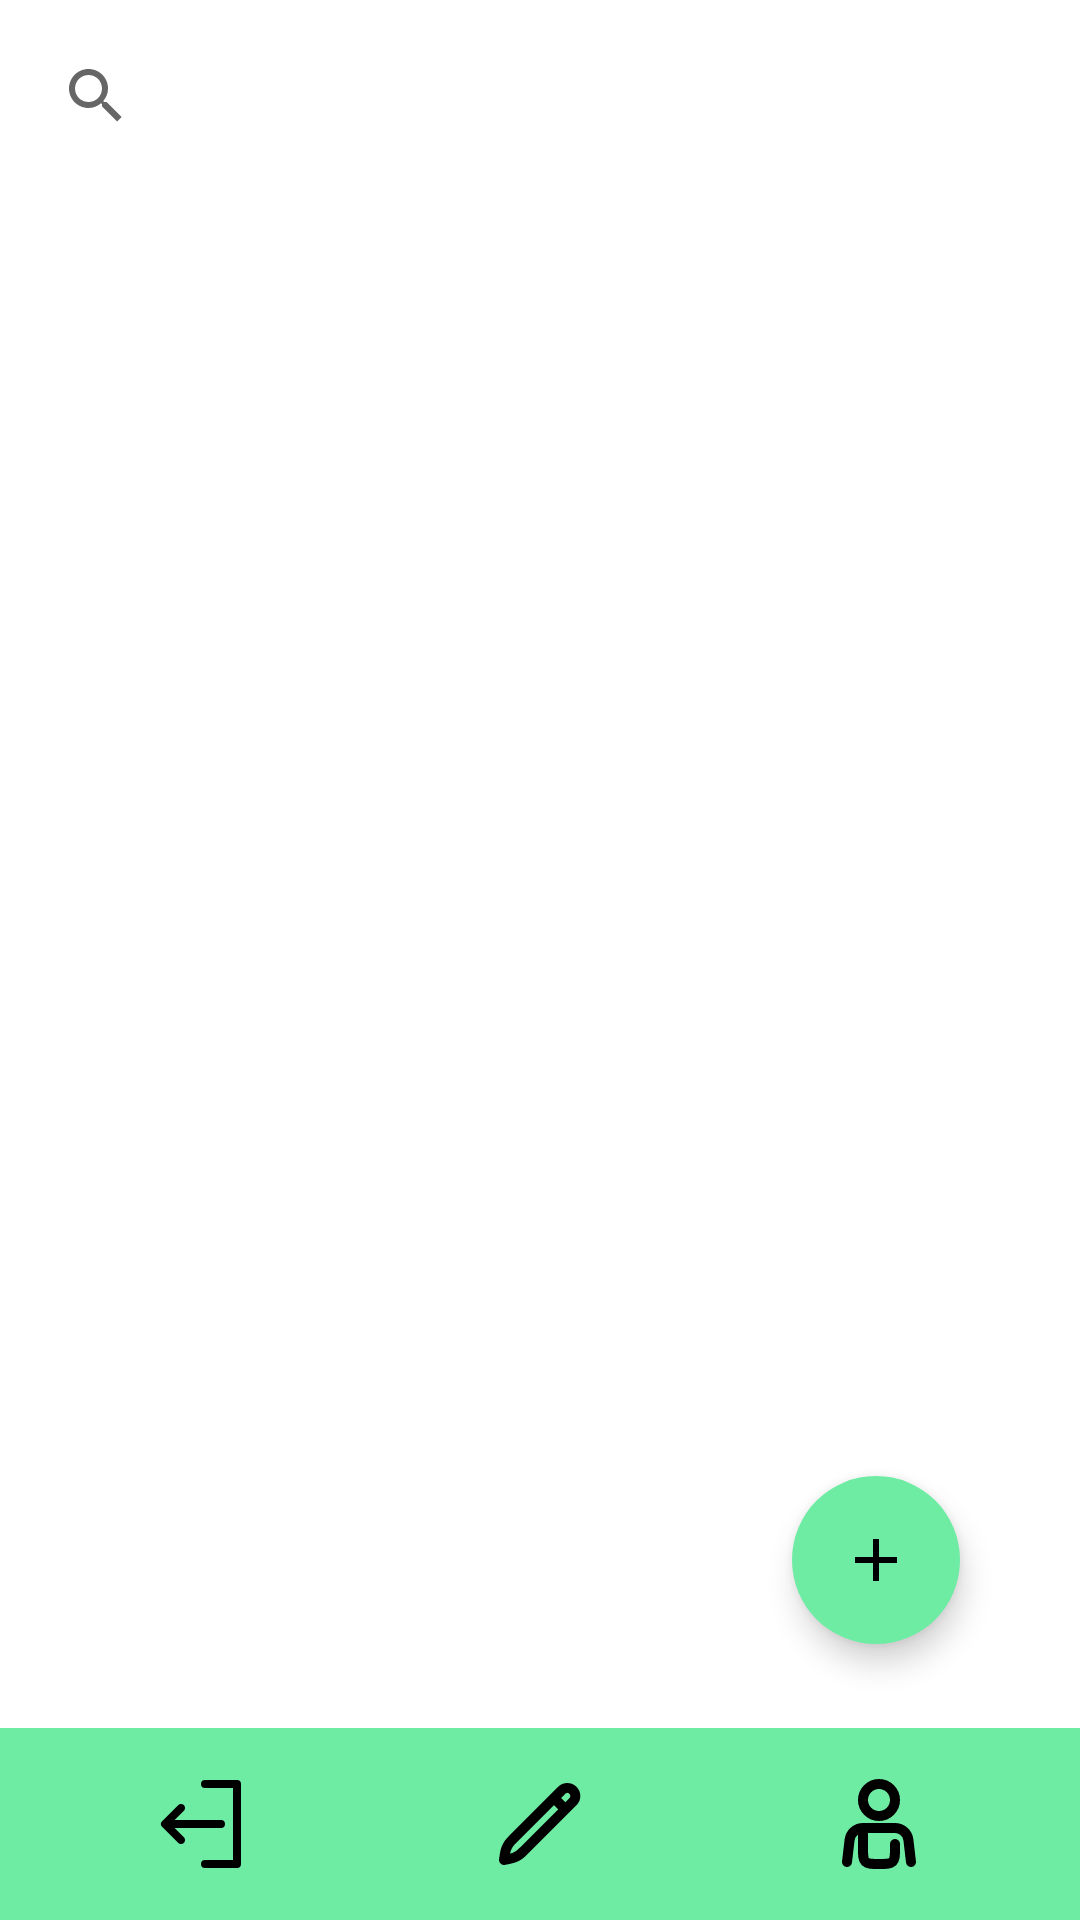

Named icons in this screenshot (1080px x 1920px) and their bounding boxes, (x1, y1, x2, y2):
button to add new elements: (792, 1476, 960, 1644)
